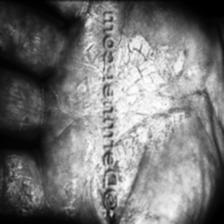Non-Cancerous Skin Condition: (90, 36, 192, 166), (1, 158, 42, 210)
